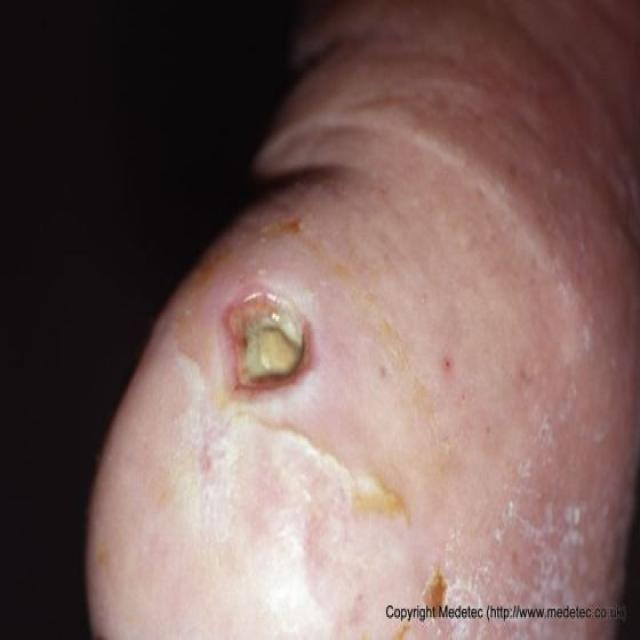Unstageable: (226, 292, 311, 393)
